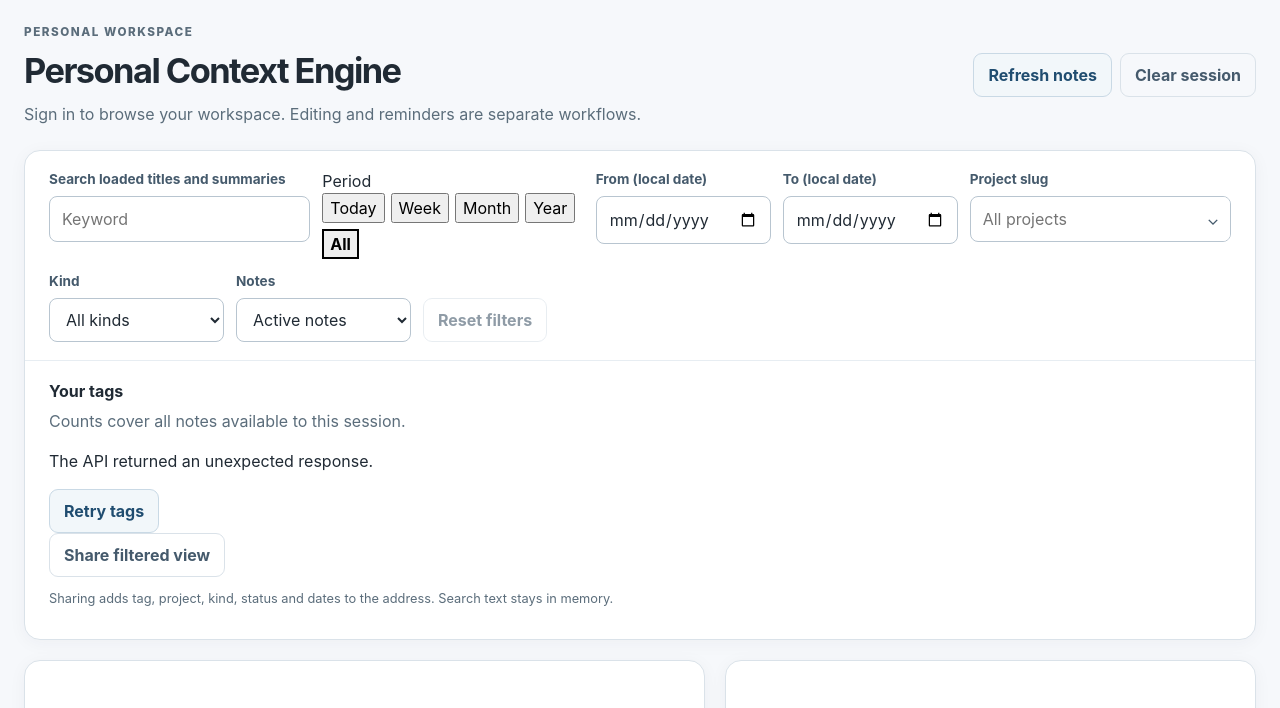
it: reports http logout failure and permits retry before clearing the session
The width and height of the screenshot is (1280, 708).
Click the button "Clear session".
click(1188, 75)  # box [1120, 53, 1256, 97]
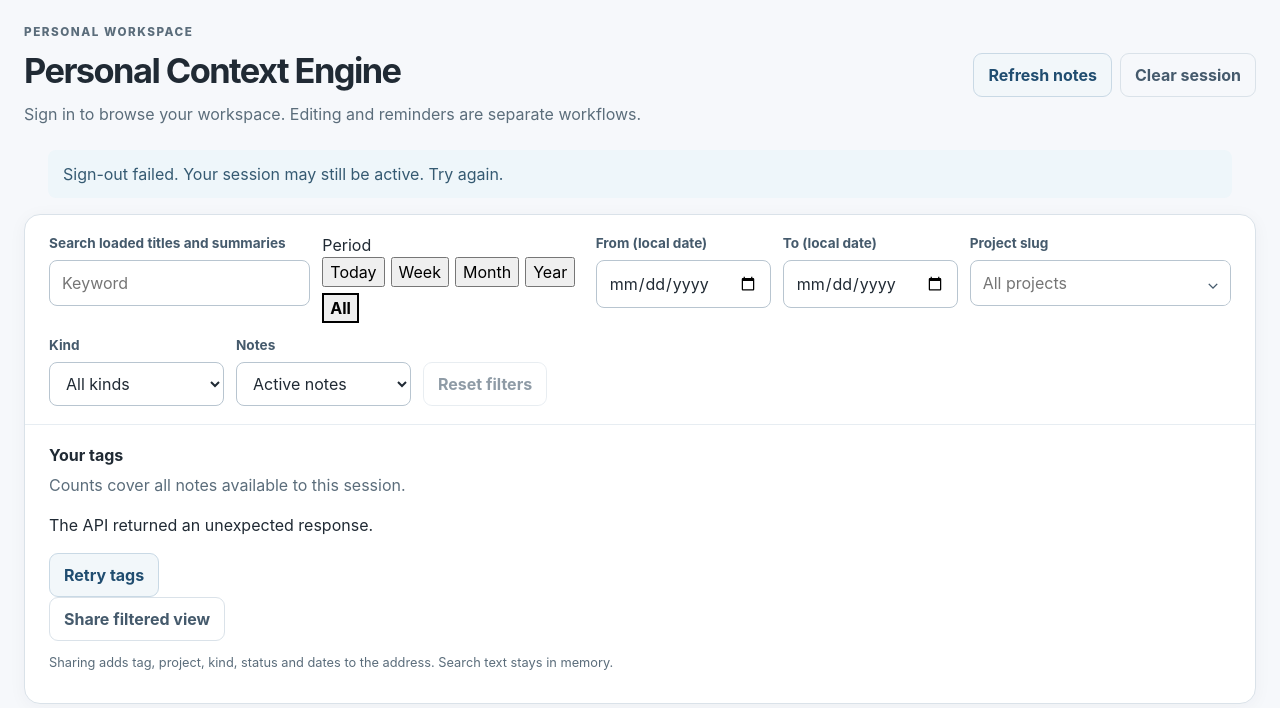
Expected: the text "Your session may still be active" is shown, [63, 164, 503, 184]
Click the button "Clear session".
click(1188, 75)  # box [1120, 53, 1256, 97]
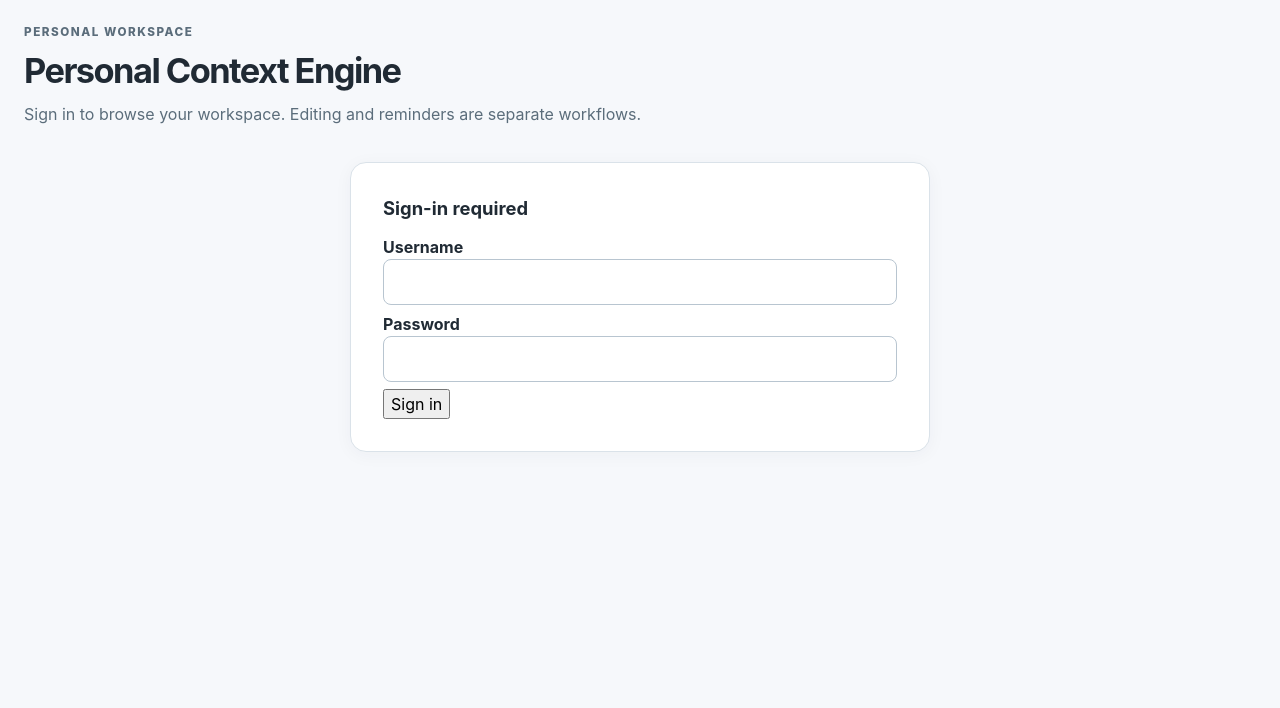
Expected: the text "Clear session" is gone
Expected: the text "Username" is shown, [383, 235, 897, 305]
